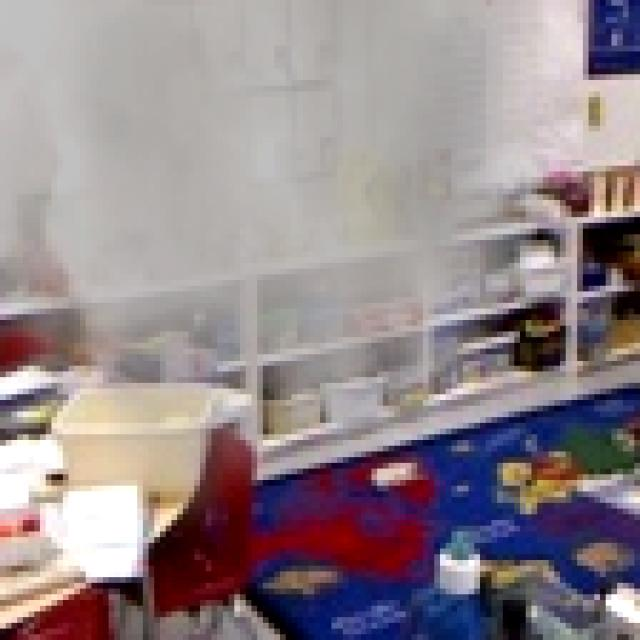smoke: (0, 0, 577, 549)
